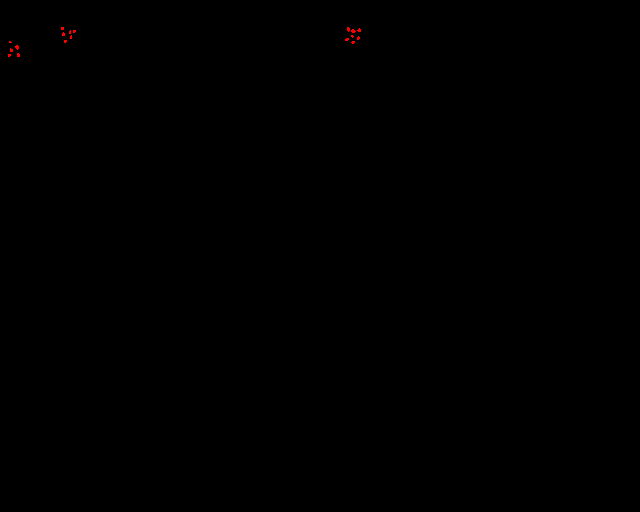Target: (351, 29, 356, 33), (15, 45, 19, 50), (357, 28, 361, 32), (347, 27, 350, 32), (62, 32, 65, 36), (357, 36, 360, 40), (345, 38, 349, 41), (351, 41, 355, 44), (10, 48, 13, 52), (17, 53, 20, 57), (61, 27, 64, 30), (73, 30, 76, 33), (351, 35, 354, 38), (64, 40, 67, 43), (8, 54, 11, 57), (69, 30, 71, 34), (70, 35, 72, 39), (9, 41, 12, 43)
